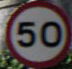Speed limit: (5, 3, 68, 61)
